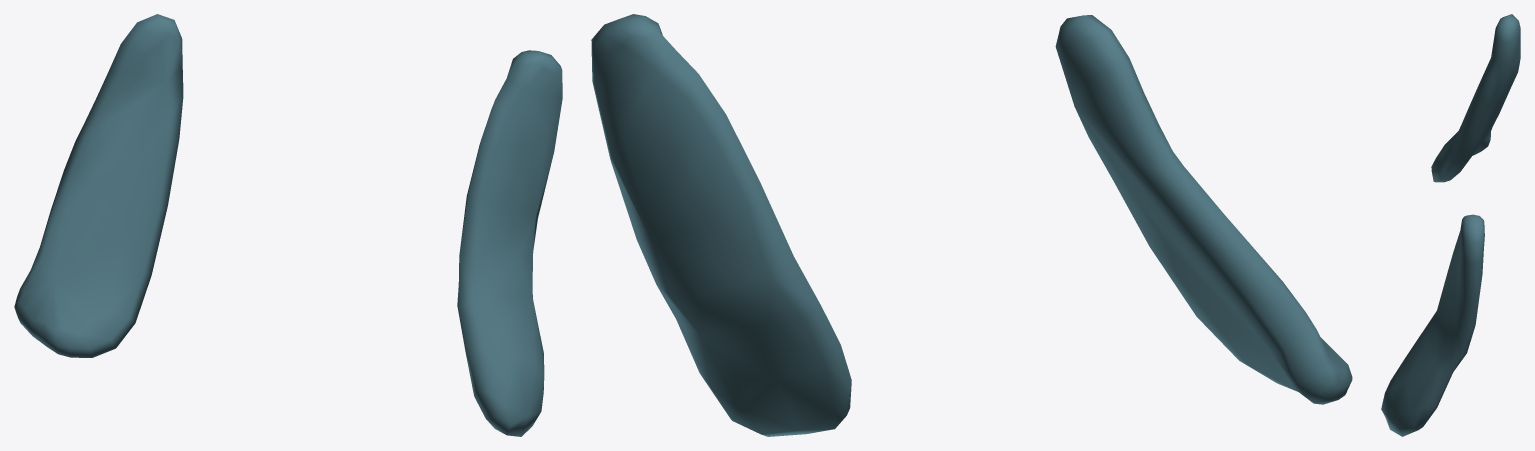
File: Flexor_digitorum_superficialis-middle_phalanx_of_2d_finger.r_Ge.glb
3 renders of one model, left to right at view 1: azimuth 30°, elevation 25°; view 2: azimuth 150°, elevation 25°; view 3: azimuth 270°, elevation 25°, orthographic. The views are drawn at different scales.
Visible parts, largest first — view 1: Flexor_digitorum_superficialis-middle_phalanx_of_2d_finger.r; view 2: Flexor_digitorum_superficialis-middle_phalanx_of_2d_finger.r; view 3: Flexor_digitorum_superficialis-middle_phalanx_of_2d_finger.r.
Part boxes in pixels (x1,y1,x2,y2): Flexor_digitorum_superficialis-middle_phalanx_of_2d_finger.r: (14, 14, 562, 436); Flexor_digitorum_superficialis-middle_phalanx_of_2d_finger.r: (591, 14, 1352, 436); Flexor_digitorum_superficialis-middle_phalanx_of_2d_finger.r: (1381, 14, 1520, 436).
Size of the model in its own units: 0.00904 by 0.00689 by 0.00278.
